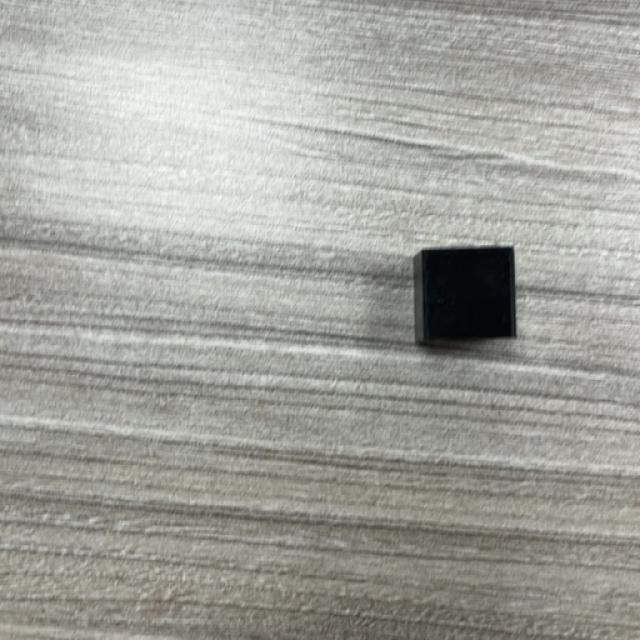Negro: (412, 248, 516, 346)
